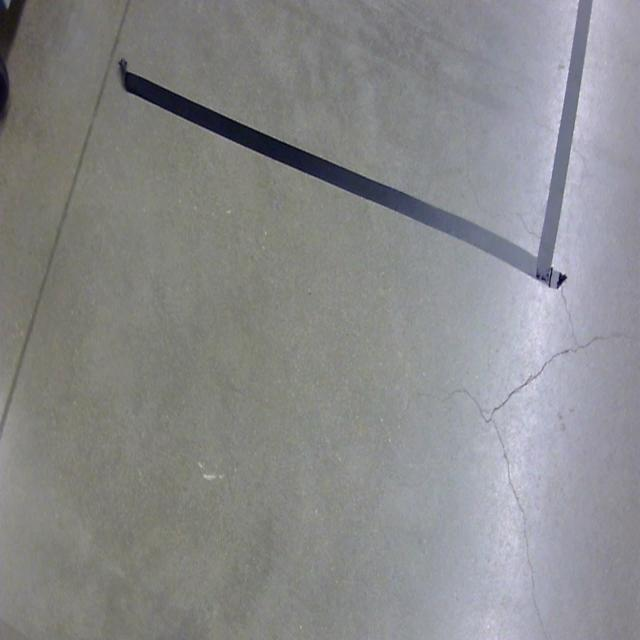tape: (119, 0, 592, 291)
